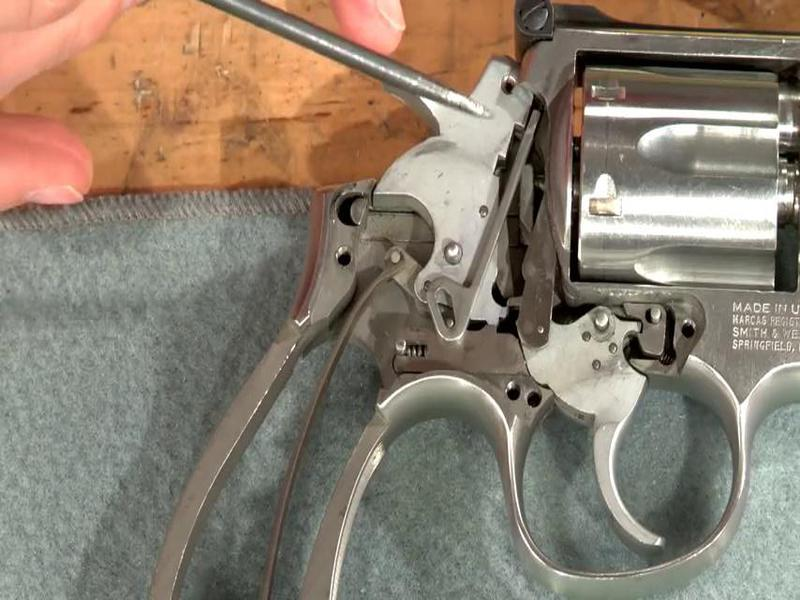Revolver: (151, 7, 800, 536)
